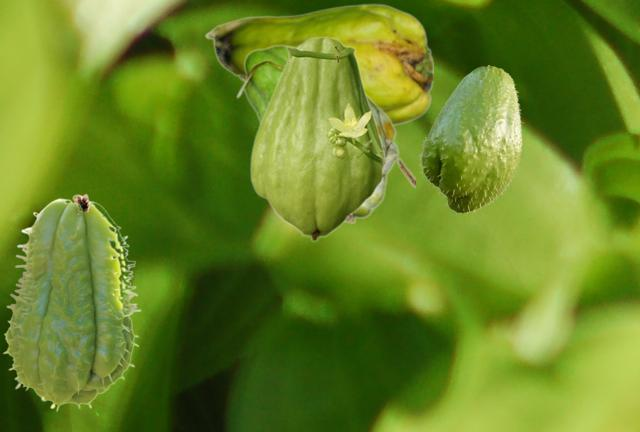sayote: (235, 44, 414, 223), (249, 36, 397, 241), (2, 193, 140, 411), (204, 3, 432, 126), (418, 65, 522, 214)
